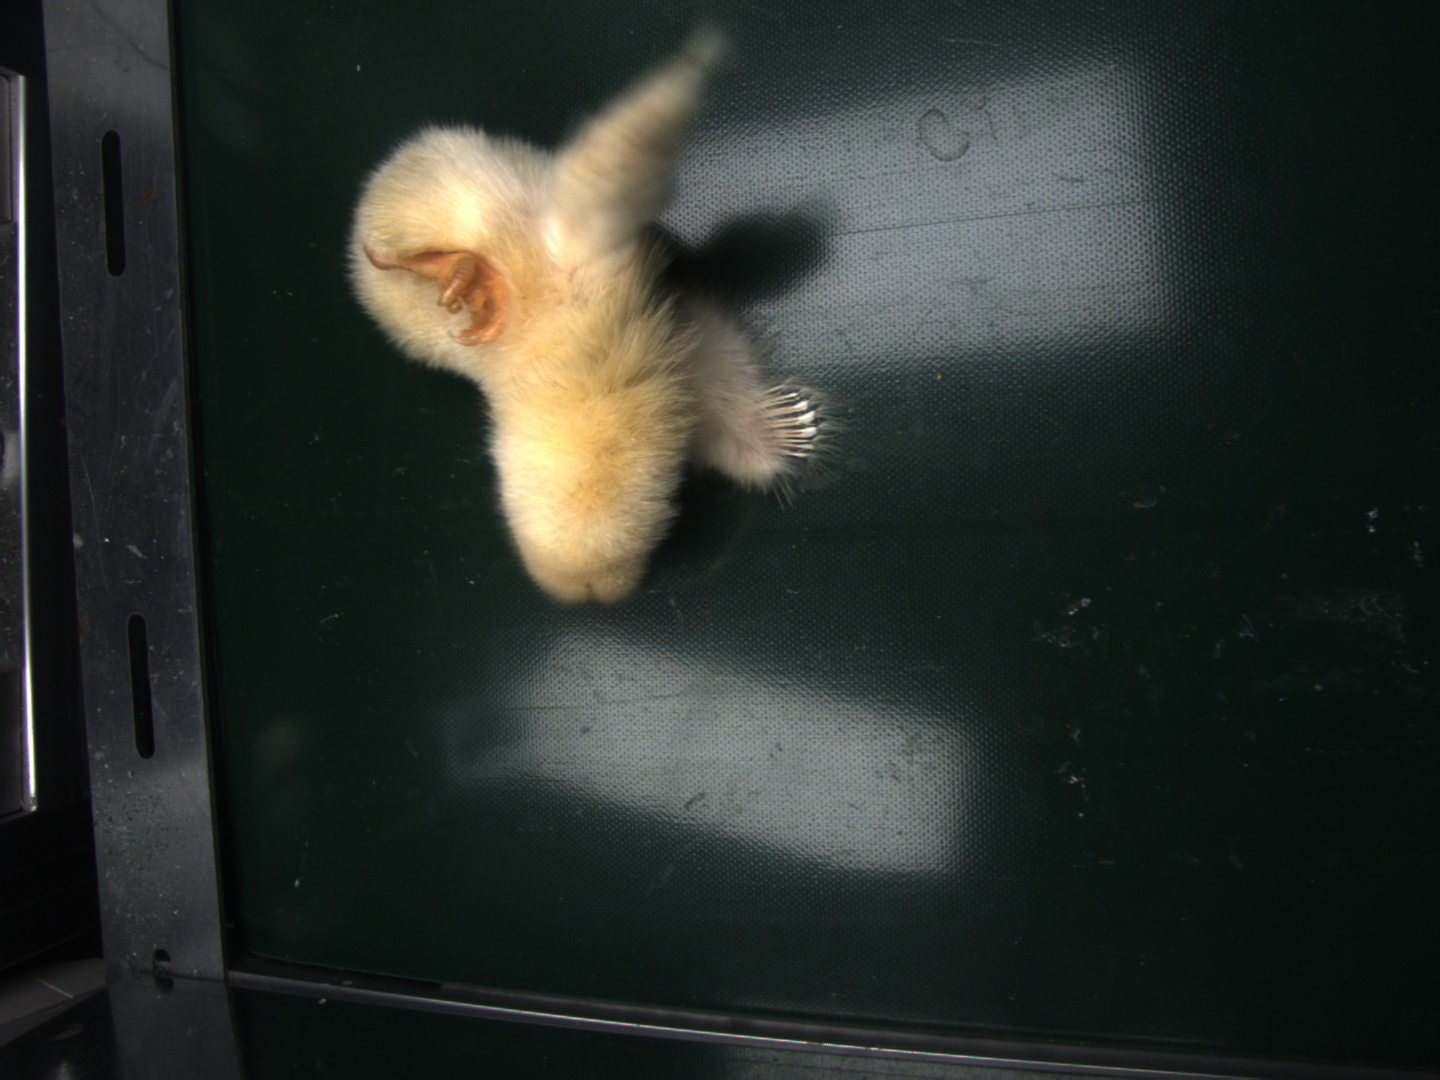male: (749, 385, 820, 459)
